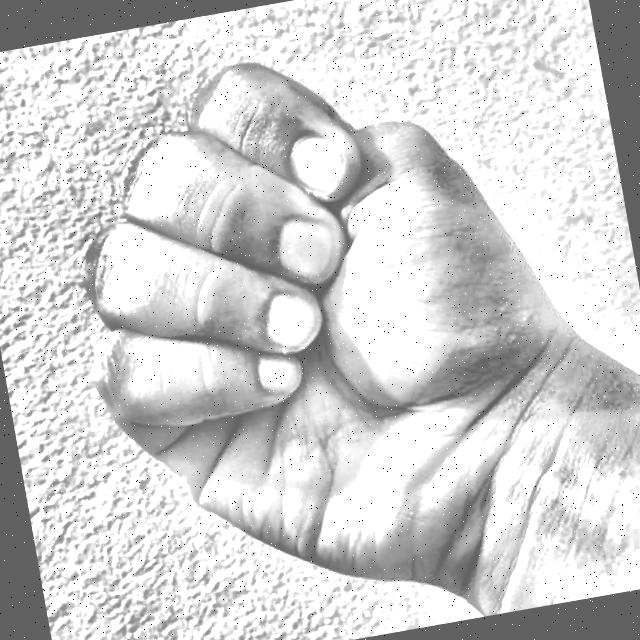To: (37, 0, 612, 640)
